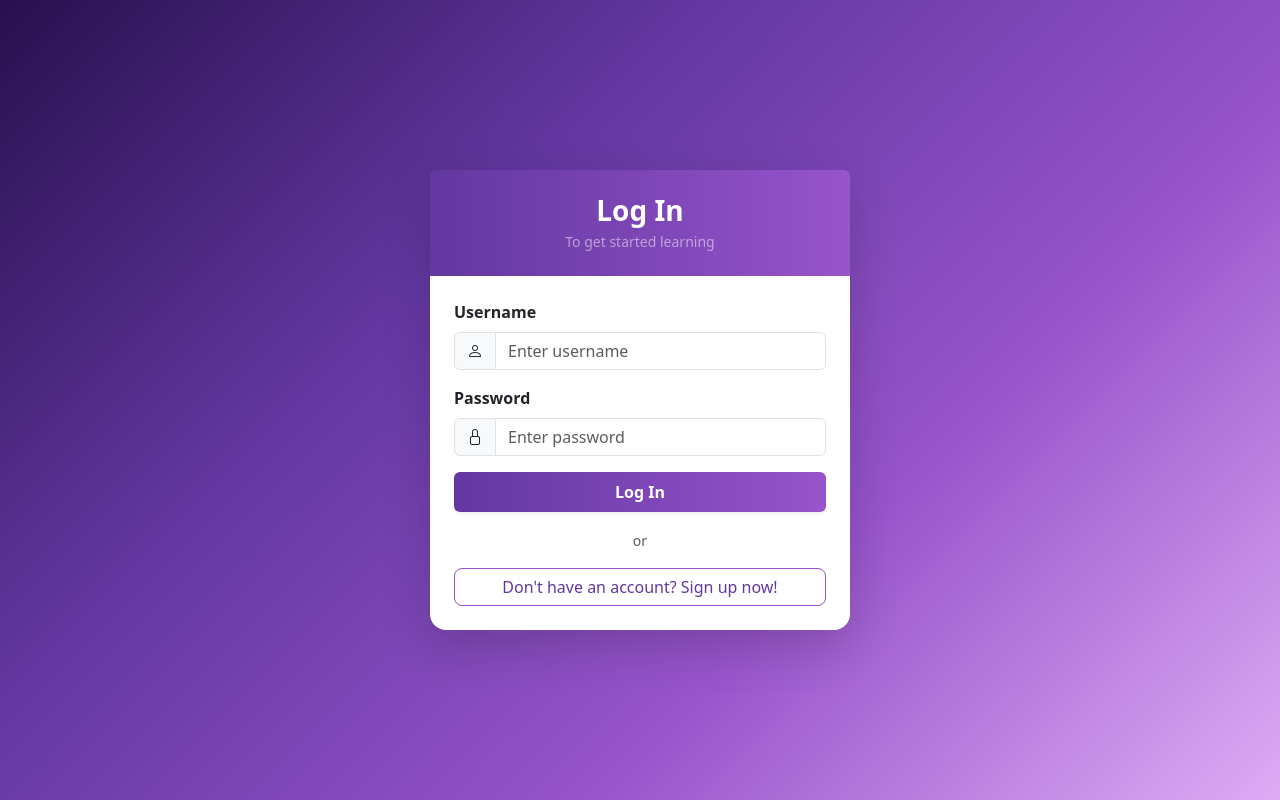
Test: Chat Application - Comprehensive E2E Tests › 1. Authentication Flow › should show validation errors for empty fields
Step 1. Click the submit button → {"x": 640, "y": 492}, box left=454, top=472, right=826, bottom=512
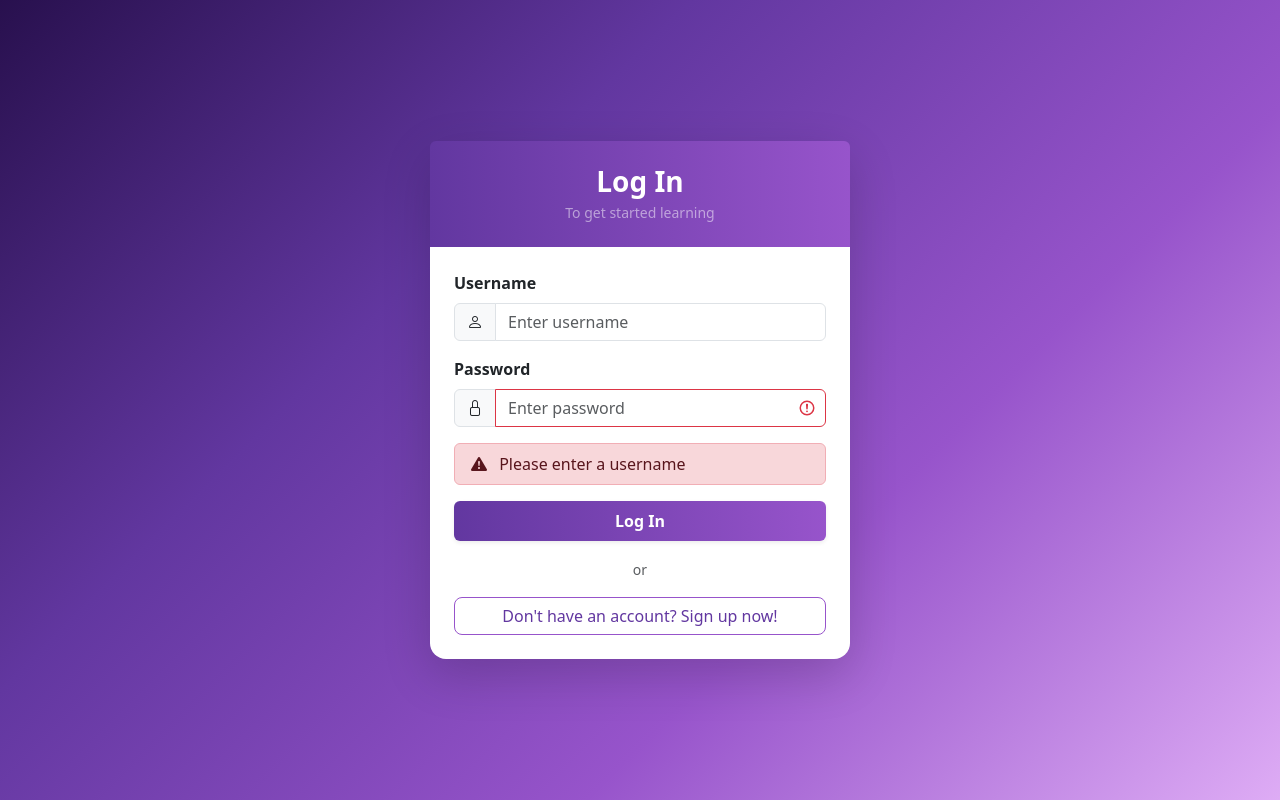
Expected: the text "Please enter a username" is shown, left=454, top=443, right=826, bottom=485
